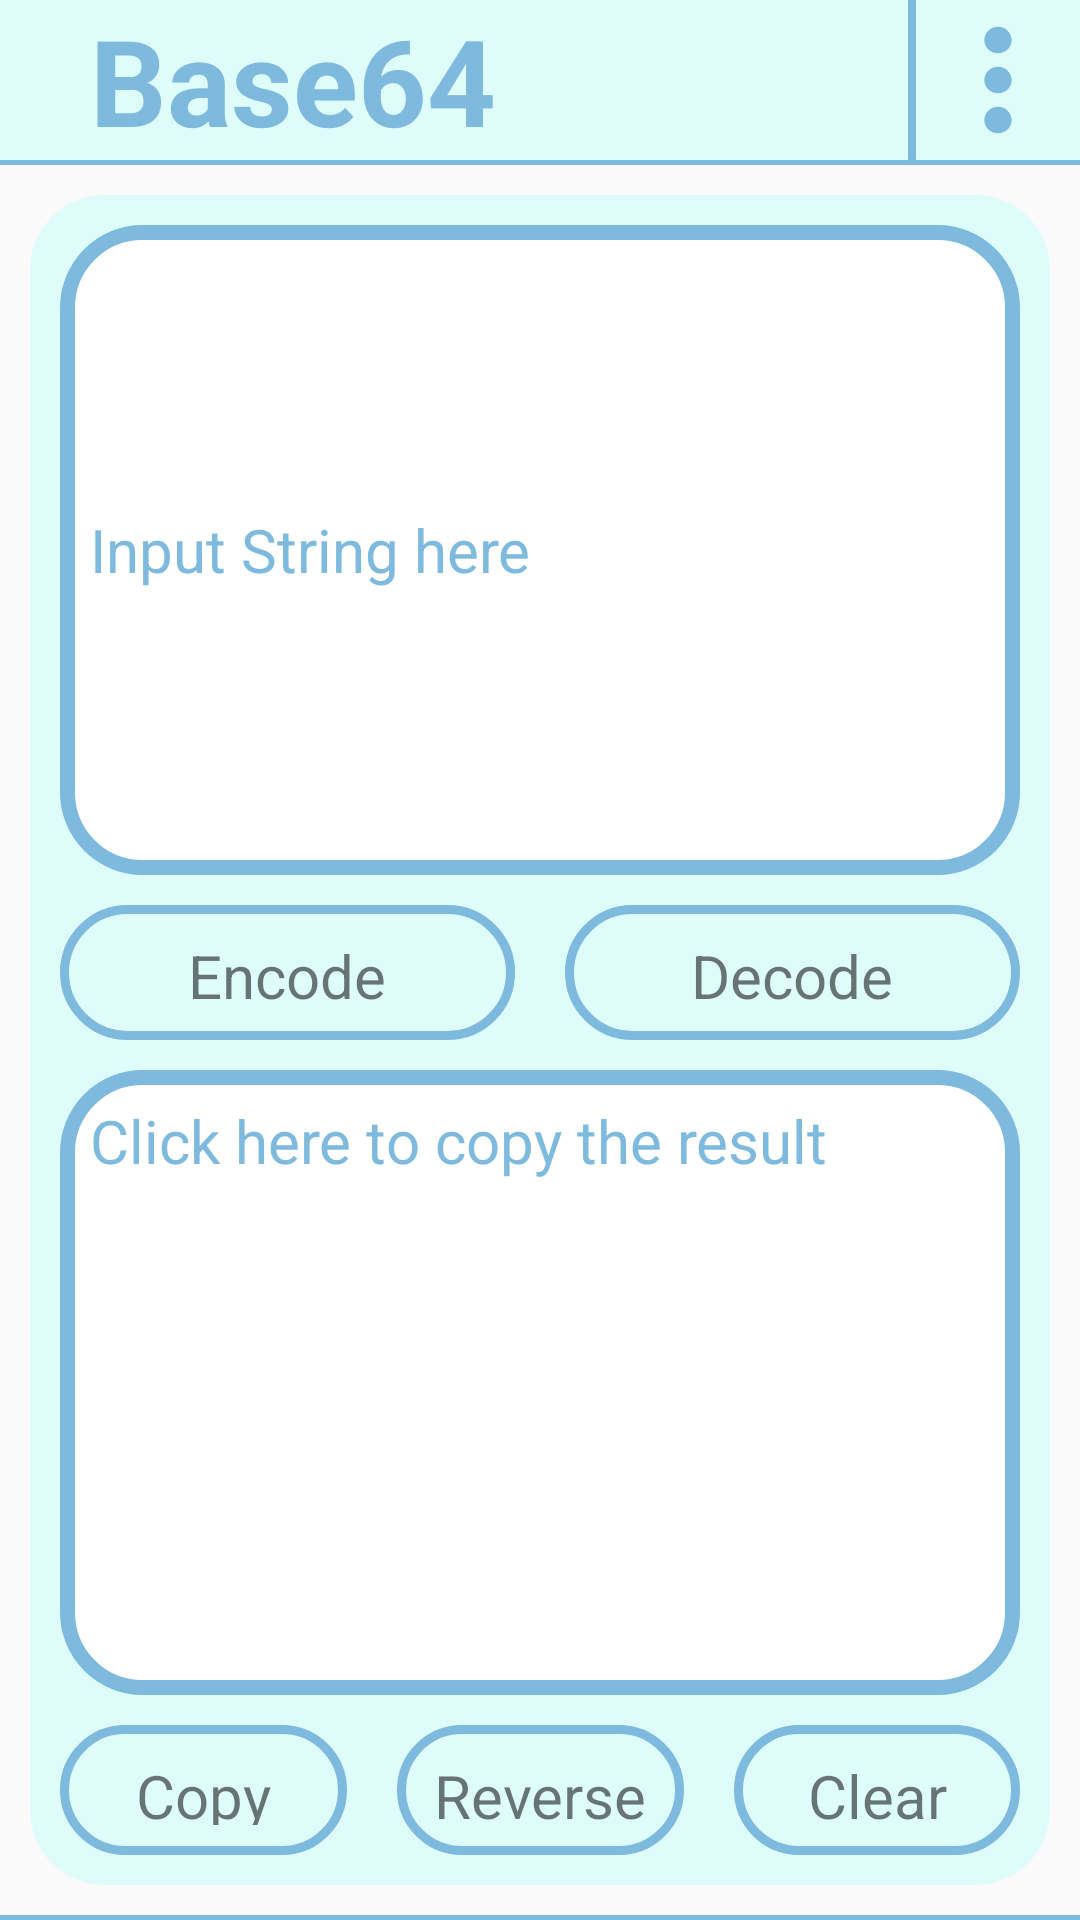

Icons on this 1080px×1920px Android screen, each with the point to tap as (x=x, y=y):
more: (x=998, y=80)
